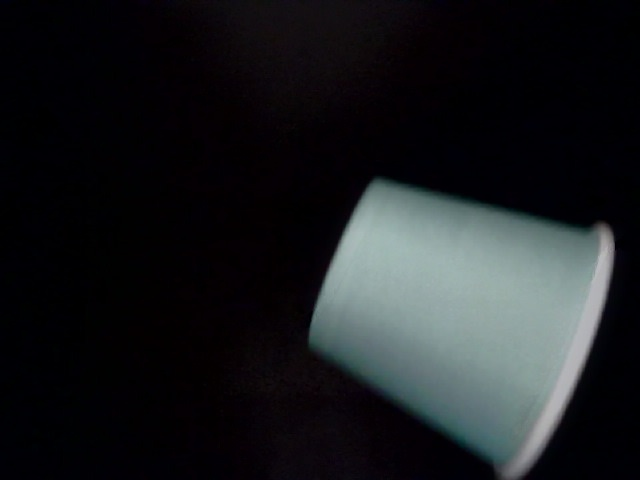KHSLJ: (154, 133, 640, 463)
